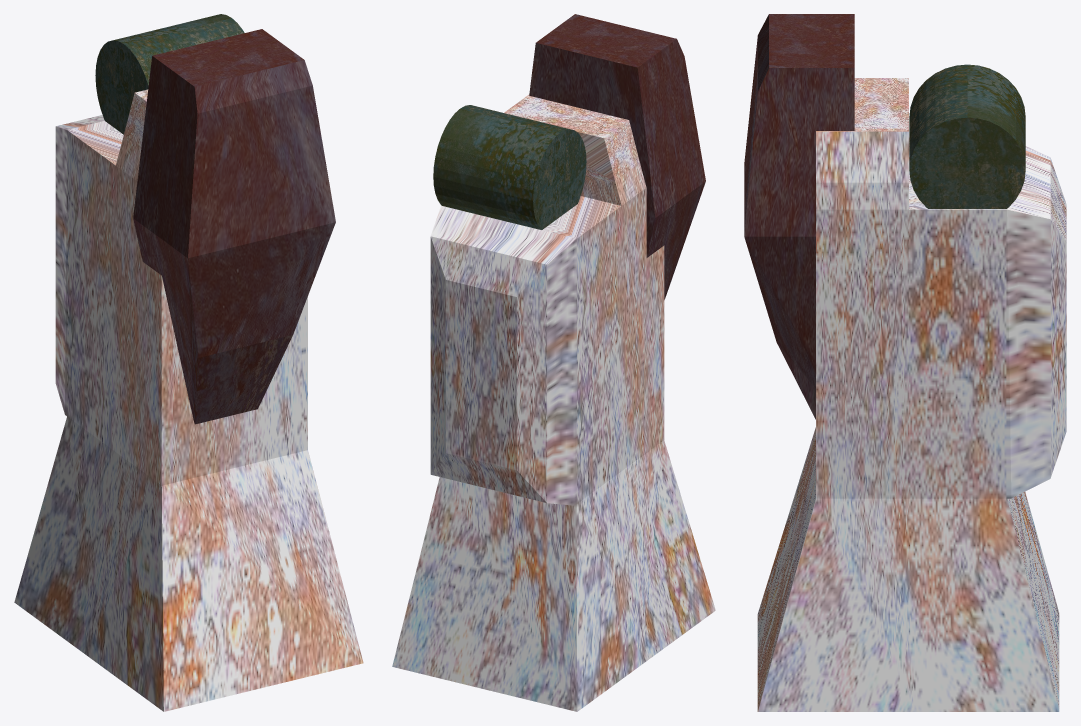
File: pantorrilla_der.obj
3 renders of one model, left to right at view 1: azimuth 30°, elevation 25°; view 2: azimuth 150°, elevation 25°; view 3: azimuth 270°, elevation 25°, orthographic. The views are drawn at different scales.
Parts seen in each view (by area): view 1: pantorrilla_der; view 2: pantorrilla_der; view 3: pantorrilla_der.
Part boxes in pixels (x1,y1,x2,y2): pantorrilla_der: (14,14,363,711); pantorrilla_der: (392,14,715,711); pantorrilla_der: (744,14,1066,711).
Bounding box in the file's own units: 2 × 5.86 × 2.77.
3 materials, 3 textured.
